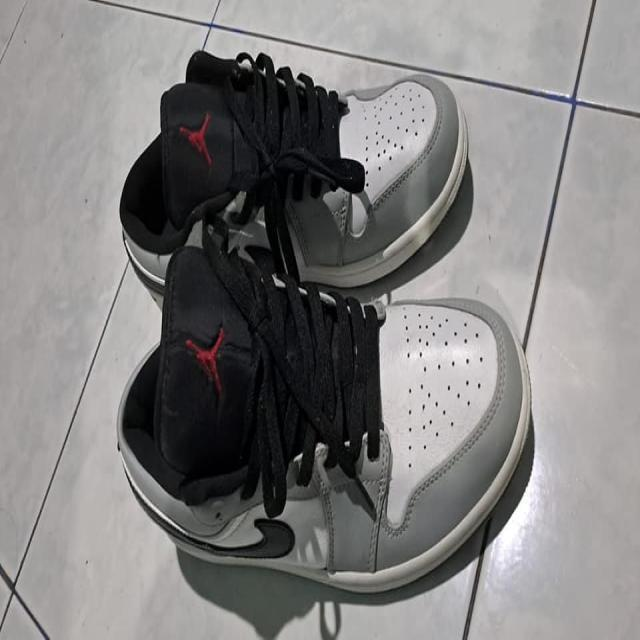nike fake jordan 1: (110, 242, 532, 594), (117, 47, 472, 322)
